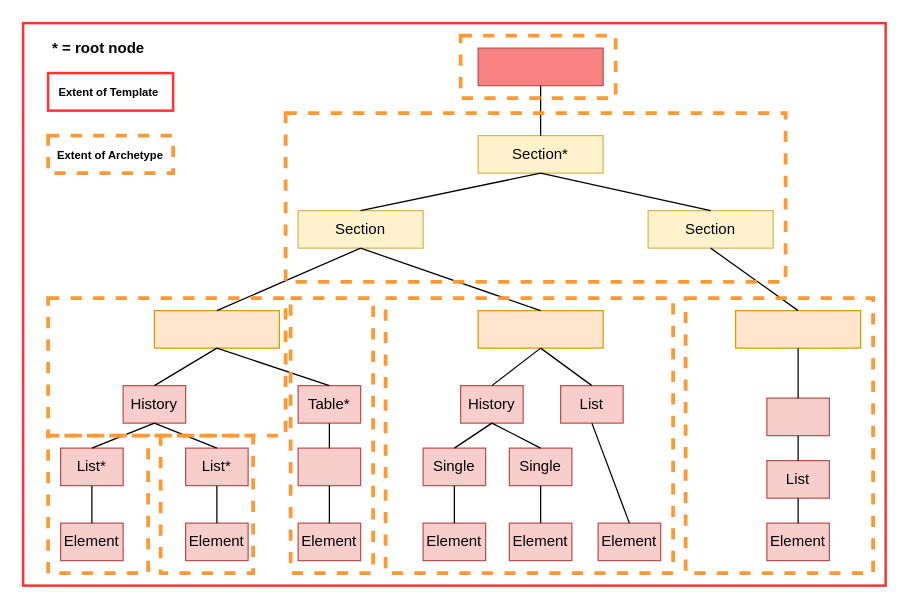
This 908x608 diagram has some shape labels left out. Each missing label, with the centre of its shape:
"Activity" belongs at (x=797, y=416).
"Cluster" belongs at (x=329, y=466).
"Composition*" belongs at (x=540, y=66).
"Evaluation*" belongs at (x=540, y=328).
"Instruction*" belongs at (x=797, y=328).
"Observation*" belongs at (x=216, y=328).
